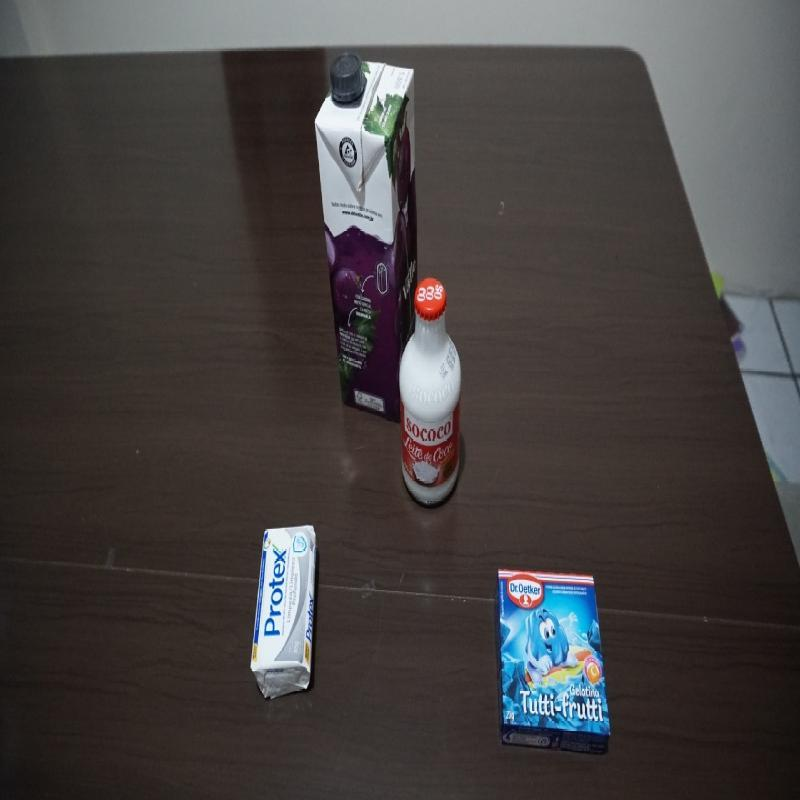Coconut Milk: (398, 278, 463, 510)
Gelatine: (491, 565, 610, 755)
Soap: (252, 523, 317, 703)
